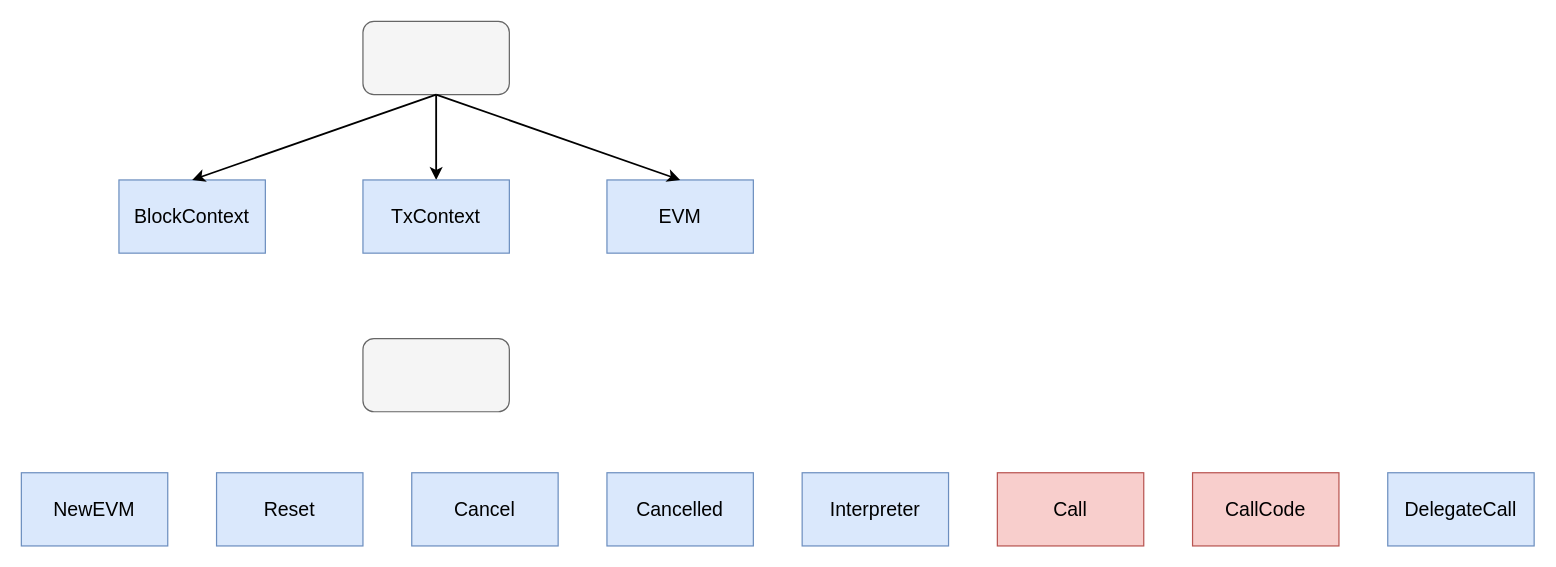
Some shapes in this 1556 by 567 pixel diagram are drawn without their labels. Here are the shapes that lost their labels. From the top down, the centre of each, then its label:
At (435,57): "Struct".
At (435,374): "Function".
